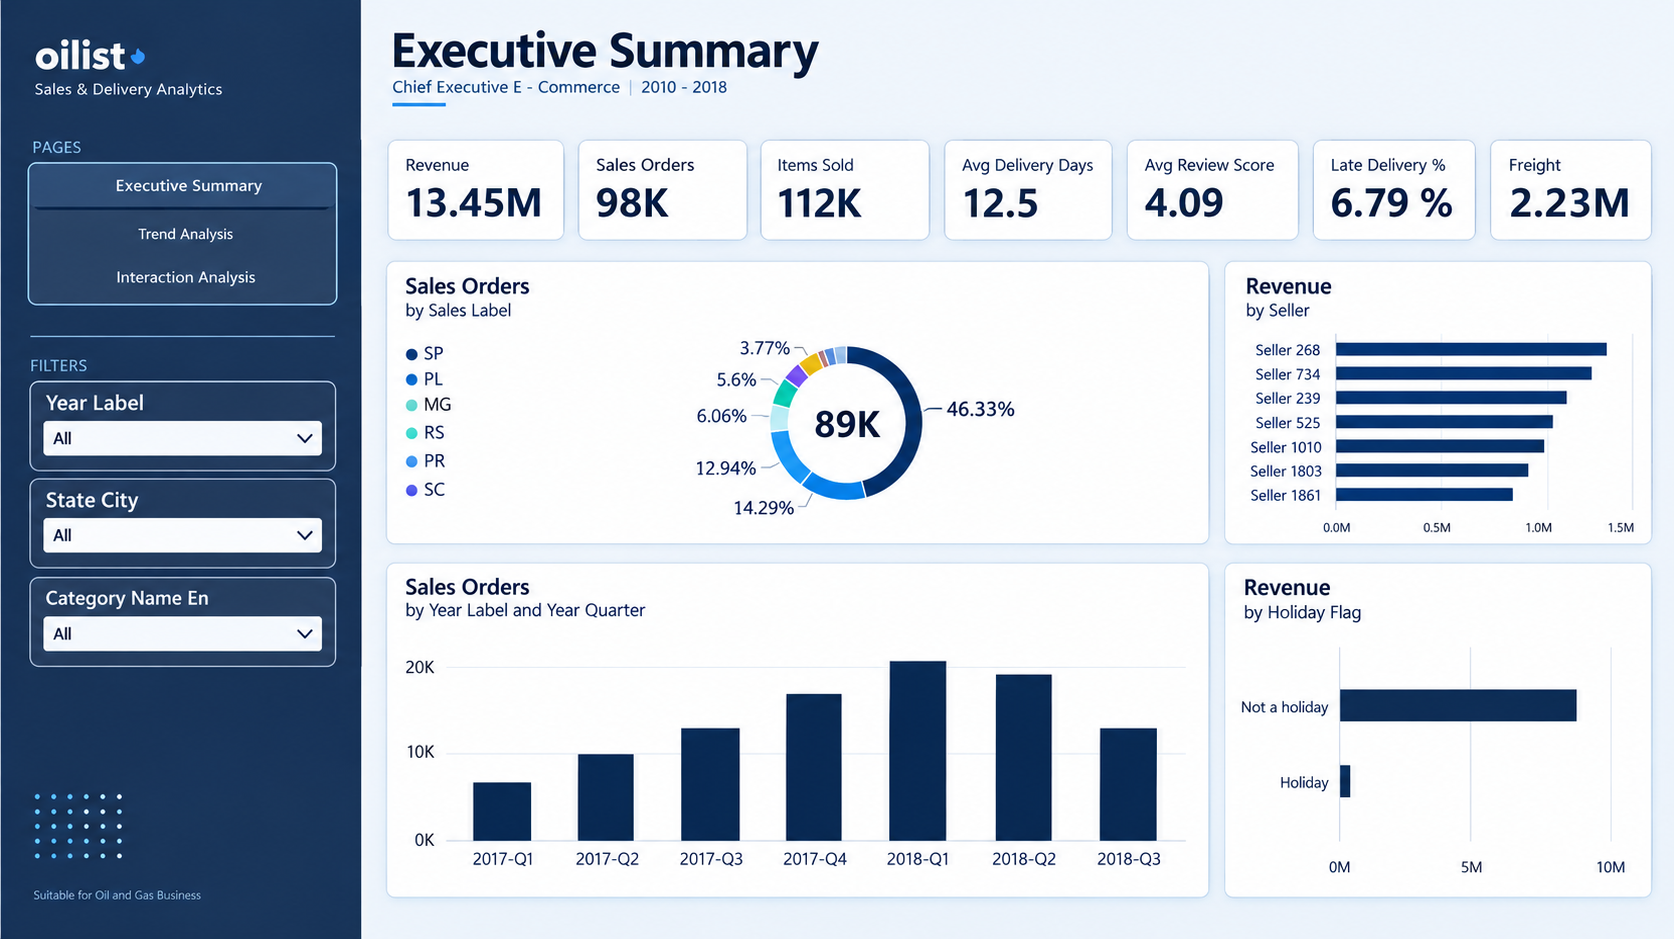

What the dashboard file says about the page in this screenshot:
{"tool":"powerbi","page":{"name":"Executive Summary","canvas":[1920,1080],"ordinal":0},"visuals":[{"type":"cardVisual","fields":{"Data":["Fact Sales.Revenue"]},"box":[486.2,175,171.2,92.5],"z":0},{"type":"cardVisual","fields":{"Data":["Fact Order Fulfilment.Sales Orders"]},"box":[690,175,167.5,92.5],"z":1000},{"type":"cardVisual","fields":{"Data":["Fact Sales.Items Sold"]},"box":[889,175,177,93],"z":2000},{"type":"cardVisual","fields":{"Data":["Measures.Avg Delivery Days"]},"box":[1092,175,174,93],"z":3000},{"type":"cardVisual","fields":{"Data":["Measures.Avg Review Score"]},"box":[1300,175,166.2,92.5],"z":4000},{"type":"lineStackedColumnComboChart","fields":{"Category":["Date.Hierarchy.Year Label","Date.Hierarchy.Year Quarter","Date.Hierarchy.Year Month"],"Y":["Fact Order Fulfilment.Sales Orders"]},"box":[486,628,884,404],"z":5000},{"type":"clusteredBarChart","fields":{"Category":["Product.Hierarchy.Category Name En"],"Y":["Fact Sales.Revenue"]},"box":[1402,628,468,404],"z":6000},{"type":"slicer","fields":{"Values":["Customer Location.Hierarchy.State City"]},"box":[50,552,340,90],"z":7000},{"type":"slicer","fields":{"Values":["Product.Hierarchy.Category Name En"]},"box":[50,654,340,86],"z":8000},{"type":"slicer","fields":{"Values":["Date.Hierarchy.Year Label"]},"box":[50,452,340,88],"z":9000},{"type":"pageNavigator","box":[35,190,370.8,158.3],"z":10000},{"type":"cardVisual","fields":{"Data":["Fact Sales.Freight"]},"box":[1702,176,168,92],"z":11000},{"type":"cardVisual","fields":{"Data":["Fact Order Fulfilment.Late Delivery %"]},"box":[1500,176,168,94],"z":12000},{"type":"donutChart","fields":{"Category":["Customer Location.Hierarchy.State Label","Payment Type.Hierarchy.Payment Group"],"Y":["Fact Order Fulfilment.Sales Orders"]},"box":[486,304,916,294],"z":13000},{"type":"clusteredBarChart","fields":{"Category":["Seller.Seller"],"Y":["Fact Sales.Revenue"]},"box":[1431.7,303.3,438.3,293.3],"z":14000}]}

Visuals, with their boxes on the page's 1920x1080 design canvas (x1, y1, x2, y2). These are canvas units, not pixel positions in the 1674x939 screenshot, which may show the page scaled, cropped or inside an application window:
cardVisual - Fact Sales.Revenue: 486 175 657 268
cardVisual - Fact Order Fulfilment.Sales Orders: 690 175 858 268
cardVisual - Fact Sales.Items Sold: 889 175 1066 268
cardVisual - Measures.Avg Delivery Days: 1092 175 1266 268
cardVisual - Measures.Avg Review Score: 1300 175 1466 268
lineStackedColumnComboChart - Date.Hierarchy.Year Label x Date.Hierarchy.Year Quarter: 486 628 1370 1032
clusteredBarChart - Product.Hierarchy.Category Name En x Fact Sales.Revenue: 1402 628 1870 1032
slicer - Customer Location.Hierarchy.State City: 50 552 390 642
slicer - Product.Hierarchy.Category Name En: 50 654 390 740
slicer - Date.Hierarchy.Year Label: 50 452 390 540
pageNavigator: 35 190 406 348
cardVisual - Fact Sales.Freight: 1702 176 1870 268
cardVisual - Fact Order Fulfilment.Late Delivery %: 1500 176 1668 270
donutChart - Customer Location.Hierarchy.State Label x Payment Type.Hierarchy.Payment Group: 486 304 1402 598
clusteredBarChart - Seller.Seller x Fact Sales.Revenue: 1432 303 1870 597
